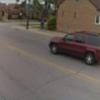cars: (46, 29, 100, 63)
